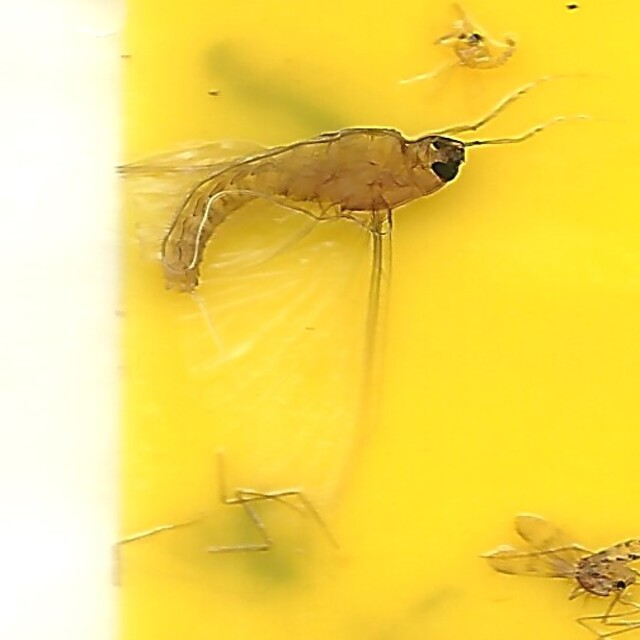Ephemeroptera: (127, 104, 513, 536)
